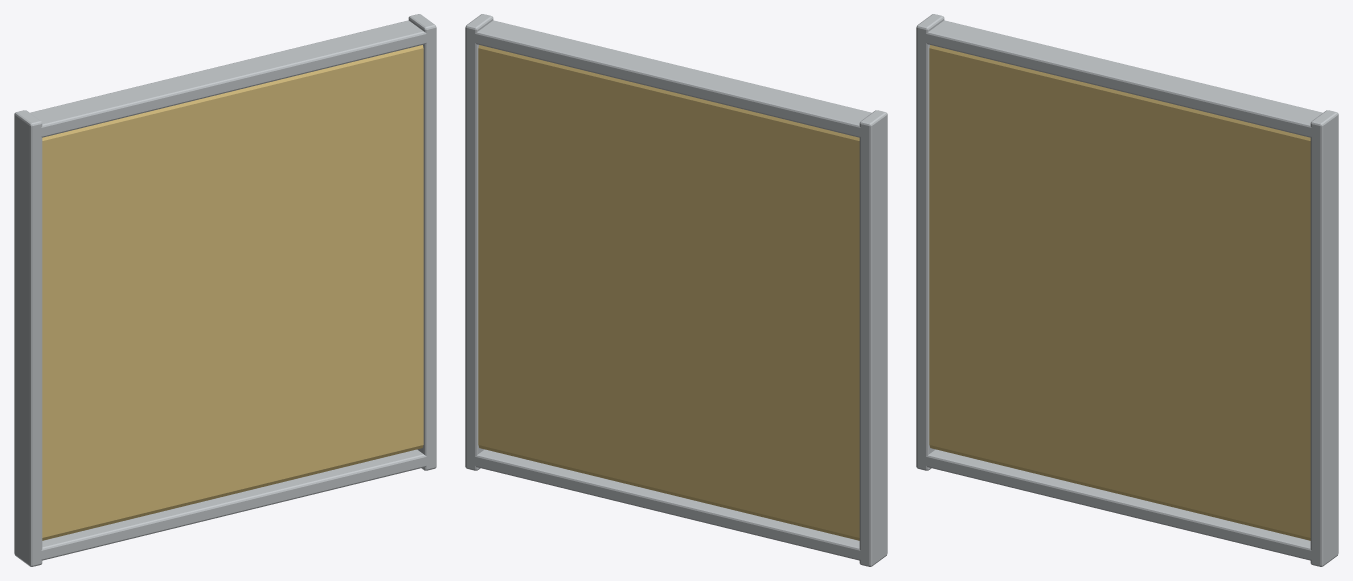
The model's file is P_partition.fbx.
3 renders of one model, left to right at view 1: azimuth 30°, elevation 25°; view 2: azimuth 150°, elevation 25°; view 3: azimuth 330°, elevation 25°, orthographic.
Parts seen in each view (by area): view 1: P_partition; view 2: P_partition; view 3: P_partition.
Part boxes in pixels (bbox=[...]): P_partition: bbox=[14, 14, 436, 566]; P_partition: bbox=[465, 14, 887, 566]; P_partition: bbox=[916, 14, 1338, 566].
Bounding box in the file's own units: 1.63 × 1.7 × 0.12.
